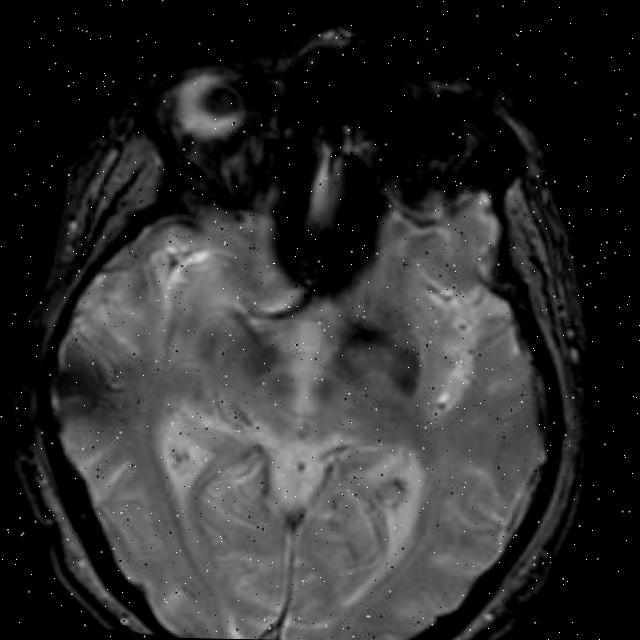EMCI: (62, 308, 180, 496)
MCI: (404, 253, 502, 380)
